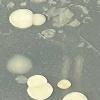white: (3, 53, 36, 76), (6, 6, 34, 32), (24, 83, 56, 100), (25, 72, 49, 87), (59, 89, 91, 100), (30, 9, 46, 29), (54, 75, 73, 91), (12, 73, 30, 85)
